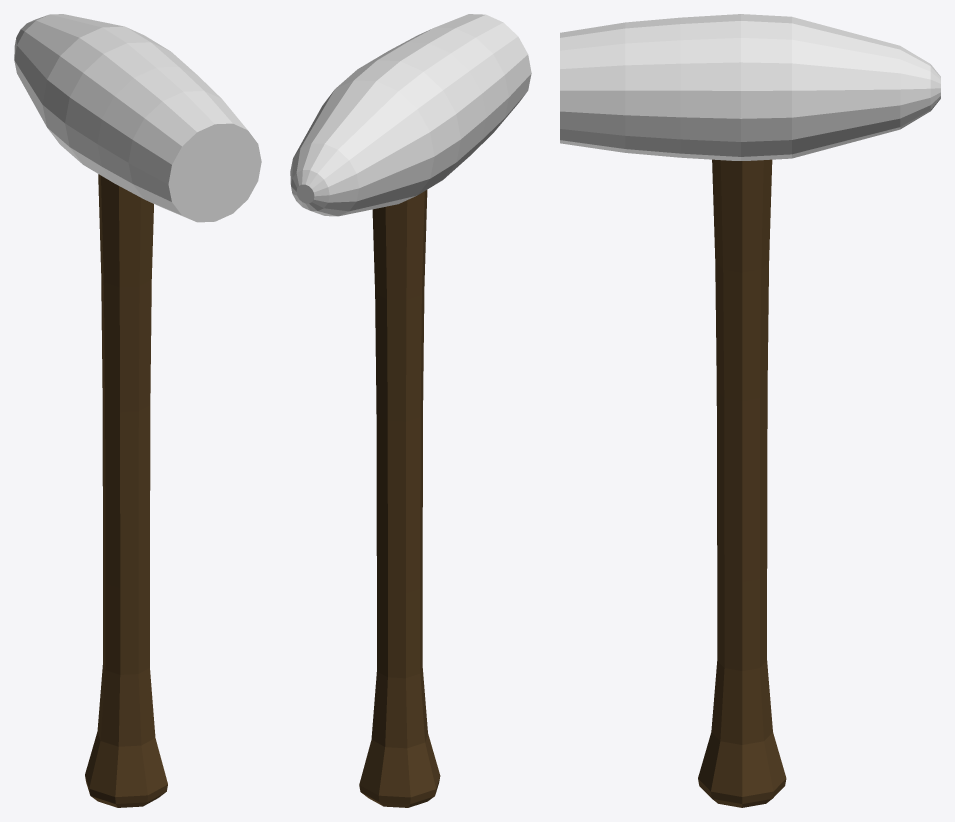
The model's file is hammer-rocket.glb.
3 views of the same model, side by side, from view 1: azimuth 30°, elevation 25°; view 2: azimuth 150°, elevation 25°; view 3: azimuth 270°, elevation 25° (orthographic). The views are drawn at different scales.
Visible parts, largest first — view 1: hammer_rocket; view 2: hammer_rocket; view 3: hammer_rocket.
Boxes of the visible parts, <box> form: hammer_rocket: <box>14,14,261,807</box>; hammer_rocket: <box>290,14,531,807</box>; hammer_rocket: <box>560,14,940,807</box>.
Size of the model in its own units: 2.11 by 12.3 by 5.44.
